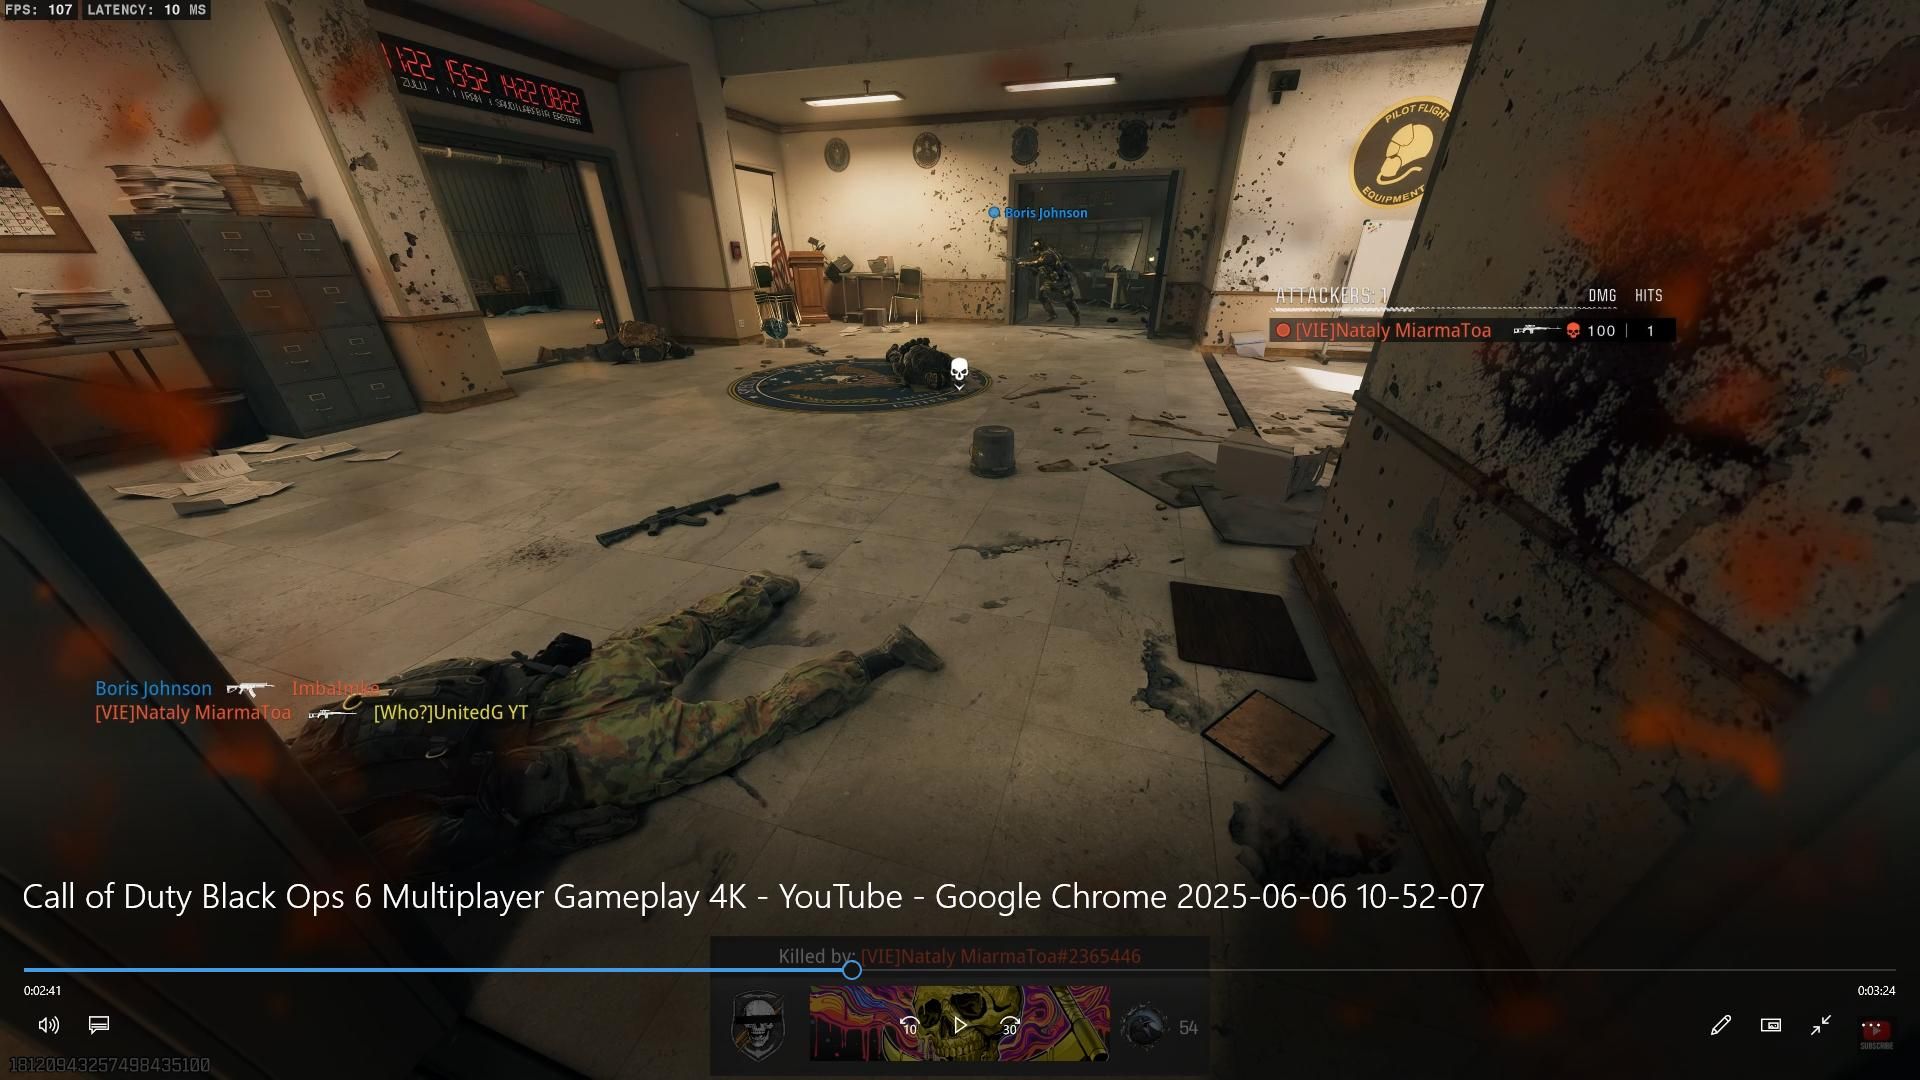Enemy: (1005, 228, 1097, 327)
